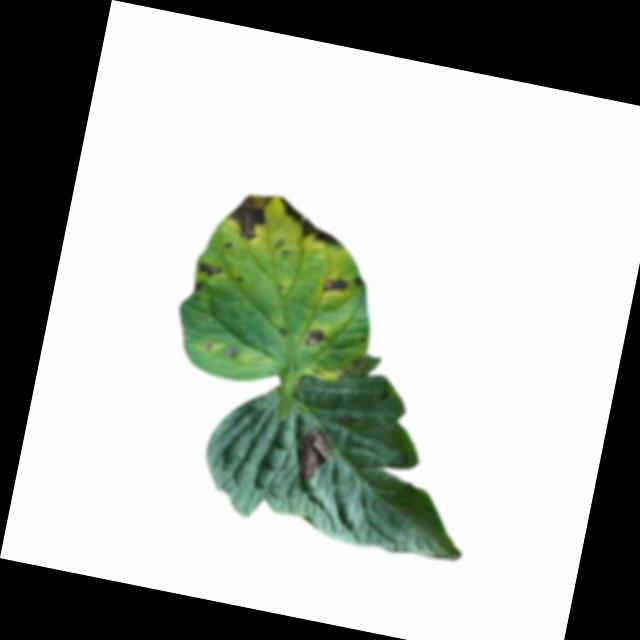Early_blight: (270, 196, 349, 249), (289, 424, 337, 485), (222, 188, 270, 244), (320, 273, 348, 298), (302, 326, 326, 349), (196, 261, 222, 280), (190, 281, 202, 295), (353, 275, 365, 288)
